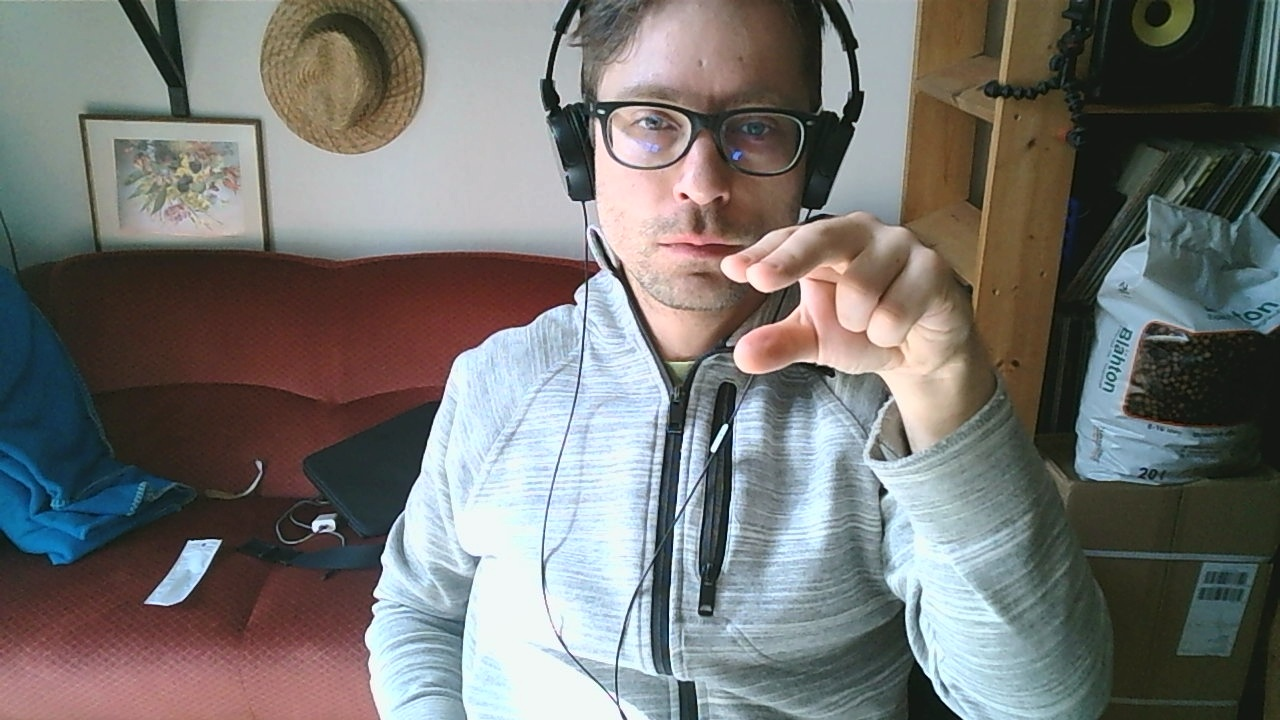no: (718, 211, 978, 388)
